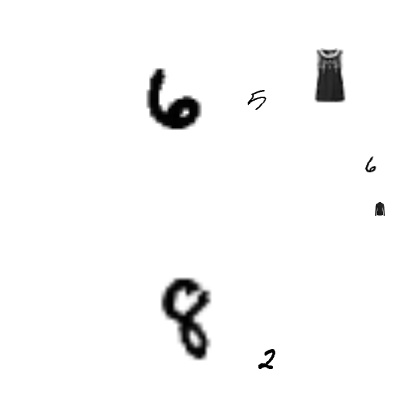2: (254, 346, 282, 374)
5: (243, 84, 271, 112)
6: (129, 63, 213, 147), (359, 155, 381, 177)
8: (130, 259, 242, 371)
Coat: (373, 202, 387, 216)
Shirt: (301, 48, 357, 104)
